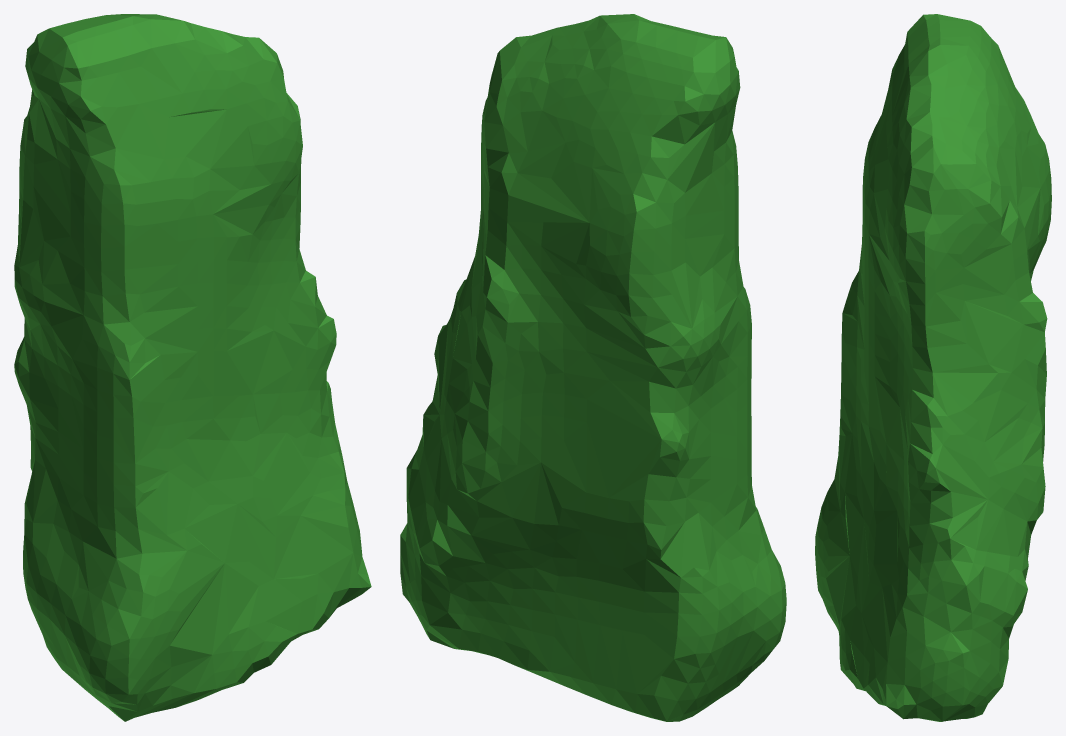
Rendered from Model_67_RH__Area_32_of_cortex__ventral_part_(A32V).obj.
3 renders of one model, left to right at view 1: azimuth 30°, elevation 25°; view 2: azimuth 150°, elevation 25°; view 3: azimuth 270°, elevation 25°, orthographic. The views are drawn at different scales.
Size of the model in its own units: 1.44 by 2.92 by 1.01.
